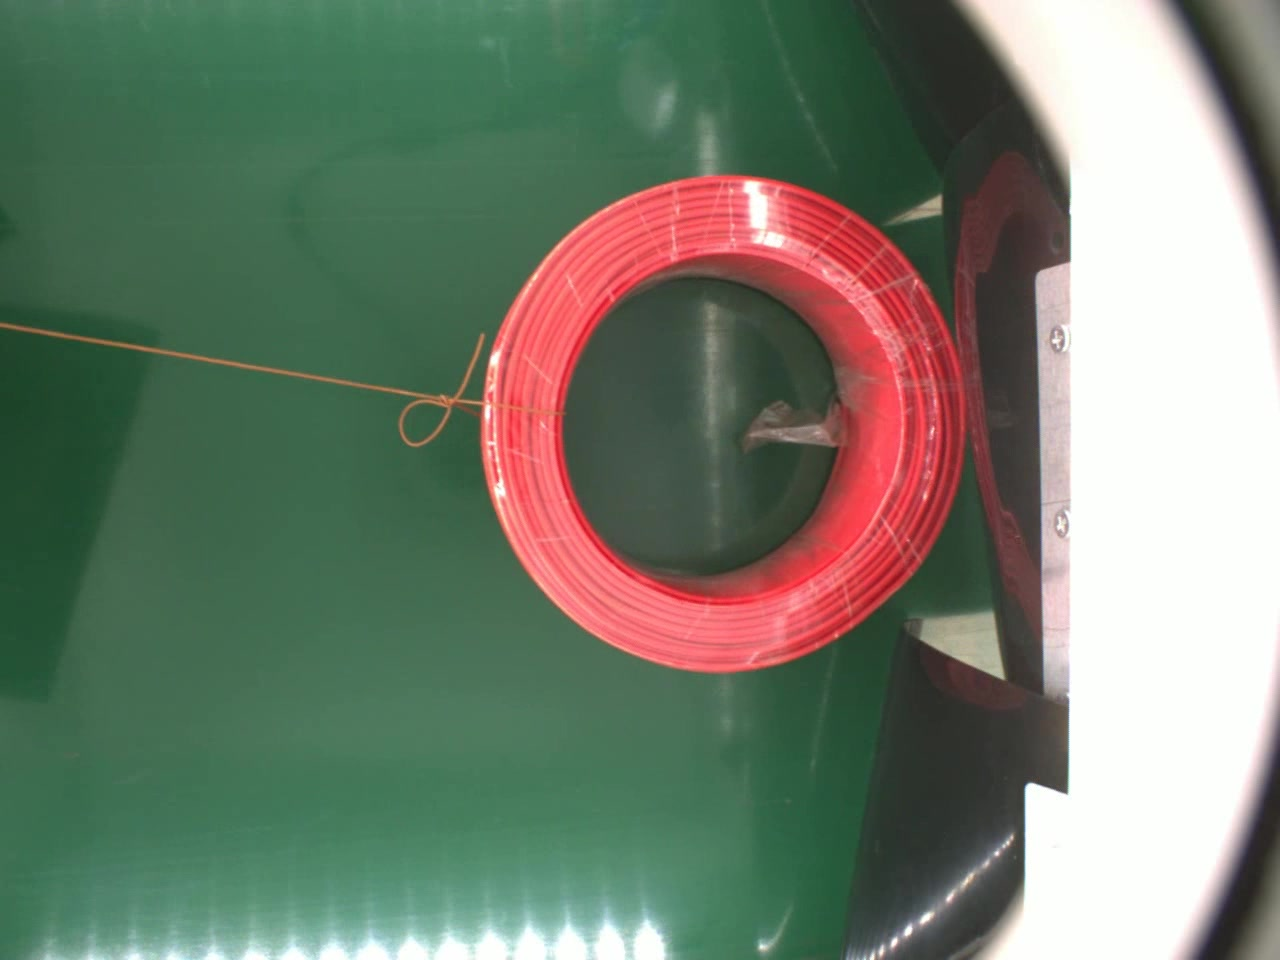red: (473, 169, 973, 678)
